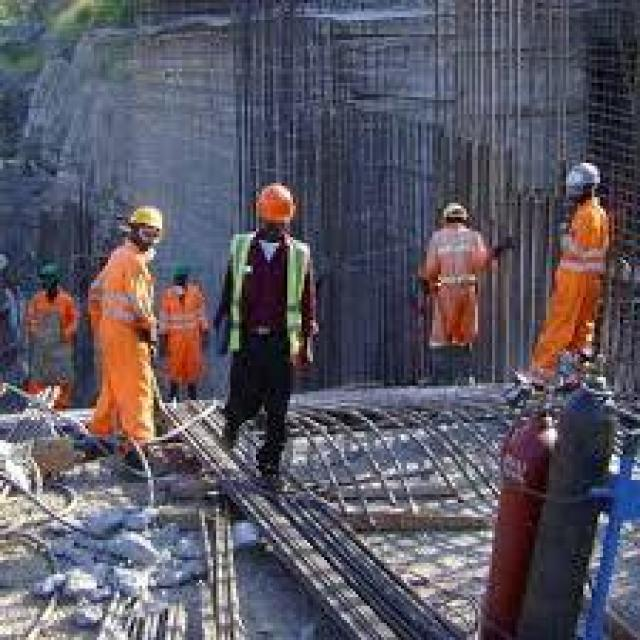Reflective-Jacket: (216, 232, 324, 372), (91, 243, 165, 354), (546, 200, 620, 297), (421, 225, 495, 308), (154, 280, 210, 383)
Safety-Helmet: (245, 174, 307, 232), (116, 197, 174, 243), (558, 157, 608, 203), (31, 257, 71, 292), (435, 197, 475, 229)
